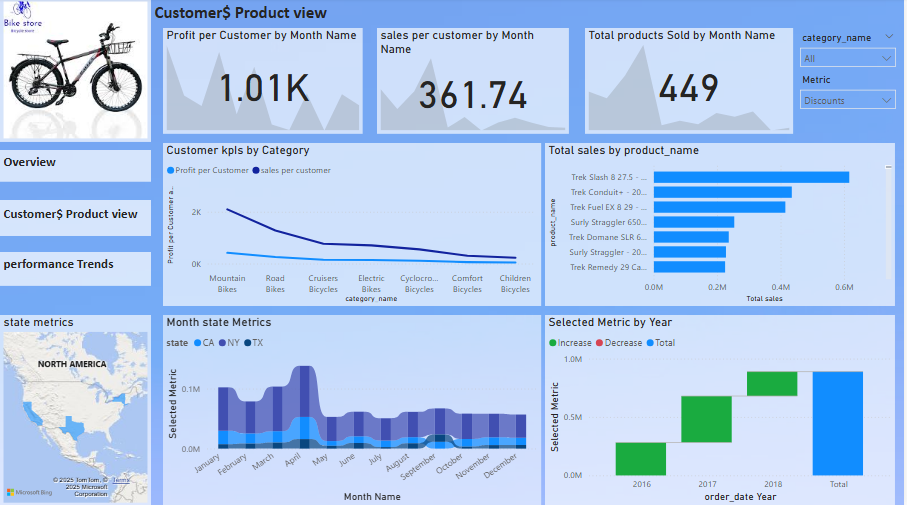

What the dashboard file says about the page in this screenshot:
{"tool":"powerbi","page":{"name":"Duplicate of Page 1","canvas":[1280,720],"ordinal":1},"visuals":[{"type":"textbox","box":[214,0,351.5,42.5],"z":0},{"type":"slicer","fields":{"Values":["production categories.category_name"]},"box":[1123.9,42.5,155.9,56.7],"z":1000},{"type":"textbox","box":[0,215.4,214,45.4],"z":2000},{"type":"textbox","box":[0,286.3,214,51],"z":3000},{"type":"textbox","box":[0,360,214,48.2],"z":4000},{"type":"image","box":[0,0,214,204.1],"z":5000},{"type":"filledMap","title":"state metrics","fields":{"Category":["sales customers.state"]},"box":[0,449.3,214,270.7],"z":6000},{"type":"kpi","fields":{"Indicator":["MEASURE.Profit per Customer"],"TrendLine":["Calendar.Month Name"]},"box":[231,42.5,283.5,150.2],"z":7000},{"type":"kpi","fields":{"Indicator":["MEASURE.sales per customer"],"TrendLine":["Calendar.Month Name"]},"box":[534.3,42.5,272.1,150.2],"z":8000},{"type":"kpi","fields":{"Indicator":["MEASURE.Total products Sold"],"TrendLine":["Calendar.Month Name"]},"box":[837.6,42.5,286.3,150.2],"z":9000},{"type":"lineChart","title":"Customer  kpIs by Category","fields":{"Y":["MEASURE.Profit per Customer","MEASURE.sales per customer"],"Category":["production categories.category_name"]},"box":[231,205.5,535.7,231],"z":10000},{"type":"clusteredBarChart","fields":{"Y":["MEASURE.Total sales"],"Category":["production products.product_name"]},"box":[772.4,205.5,496.1,231],"z":11000},{"type":"waterfallChart","fields":{"Category":["Calendar.order_date.Variation.Date Hierarchy.Year","Calendar.order_date.Variation.Date Hierarchy.Quarter","Calendar.order_date.Variation.Date Hierarchy.Month","Calendar.order_date.Variation.Date Hierarchy.Day"],"Y":["MEASURE.Selected Metric"]},"box":[772.4,449.3,496.1,270.7],"z":12000},{"type":"ribbonChart","title":" Month state Metrics","fields":{"Y":["MEASURE.Selected Metric"],"Category":["Calendar.Month Name"],"Series":["sales stores.state"]},"box":[231,449.3,535.7,270.7],"z":13000},{"type":"slicer","fields":{"Values":["Metric Selector. Metric"]},"box":[1123.9,102,155.9,69.4],"z":14000}]}

Visuals, with their boxes in screenshot pixels (x1, y1, x2, y2), scaled from the page's 1280x720 canvas onto the 907x505 screenshot:
textbox: bbox(152, 0, 401, 30)
slicer - production categories.category_name: bbox(796, 30, 906, 70)
textbox: bbox(0, 151, 152, 183)
textbox: bbox(0, 201, 152, 237)
textbox: bbox(0, 252, 152, 286)
image: bbox(0, 0, 152, 143)
"state metrics" filledMap: bbox(0, 315, 152, 504)
kpi - MEASURE.Profit per Customer x Calendar.Month Name: bbox(164, 30, 365, 135)
kpi - MEASURE.sales per customer x Calendar.Month Name: bbox(379, 30, 571, 135)
kpi - MEASURE.Total products Sold x Calendar.Month Name: bbox(594, 30, 796, 135)
"Customer  kpIs by Category" lineChart: bbox(164, 144, 543, 306)
clusteredBarChart - MEASURE.Total sales x production products.product_name: bbox(547, 144, 899, 306)
waterfallChart - Calendar.order_date.Variation.Date Hierarchy.Year x Calendar.order_date.Variation.Date Hierarchy.Quarter: bbox(547, 315, 899, 504)
" Month state Metrics" ribbonChart: bbox(164, 315, 543, 504)
slicer - Metric Selector. Metric: bbox(796, 72, 906, 120)
